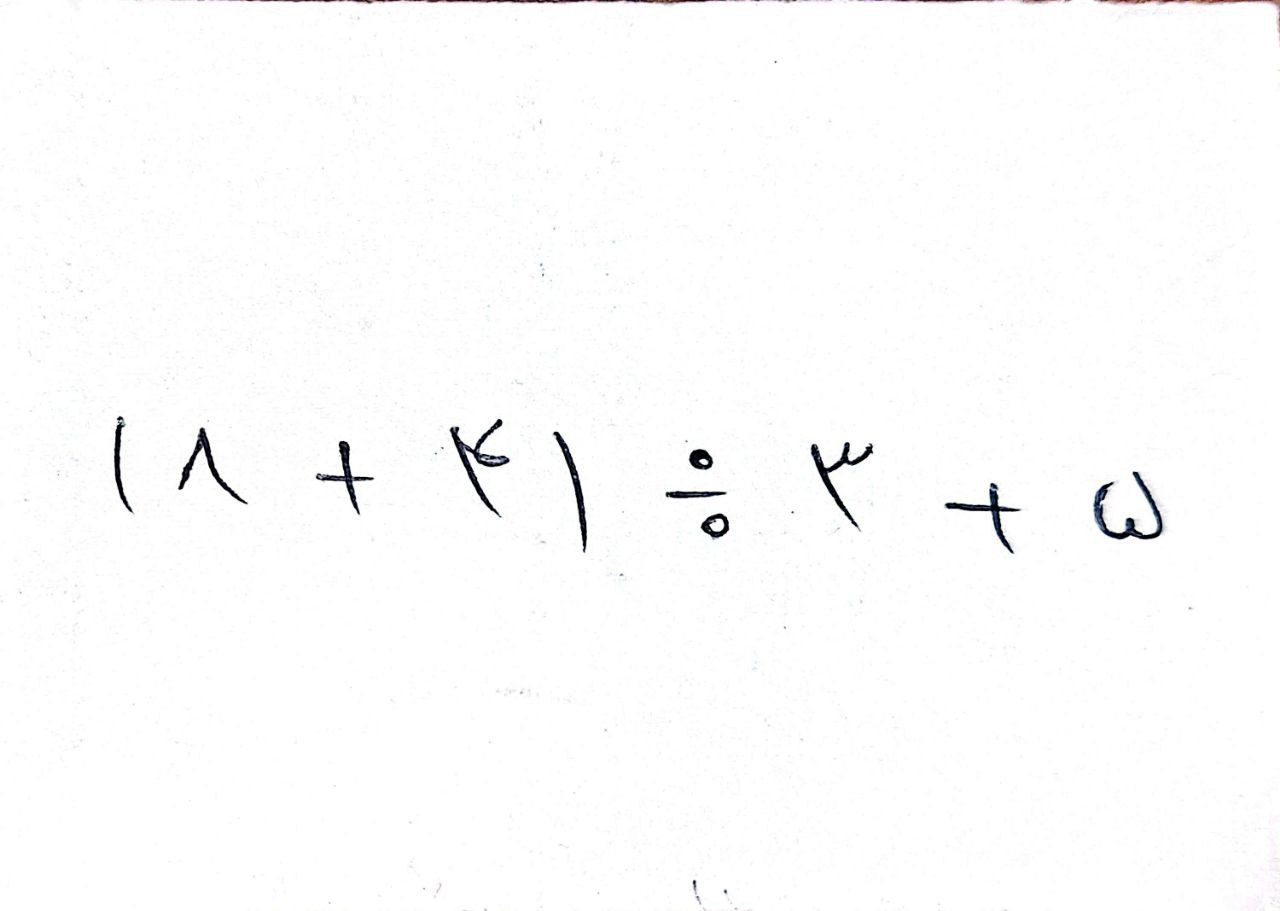character: (662, 445, 736, 539), (448, 416, 513, 521), (807, 437, 875, 536), (170, 426, 252, 506), (943, 482, 1023, 557), (1089, 469, 1165, 545), (550, 429, 594, 555), (312, 439, 379, 518), (110, 413, 138, 519)
